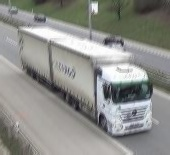truck: (18, 27, 153, 136)
